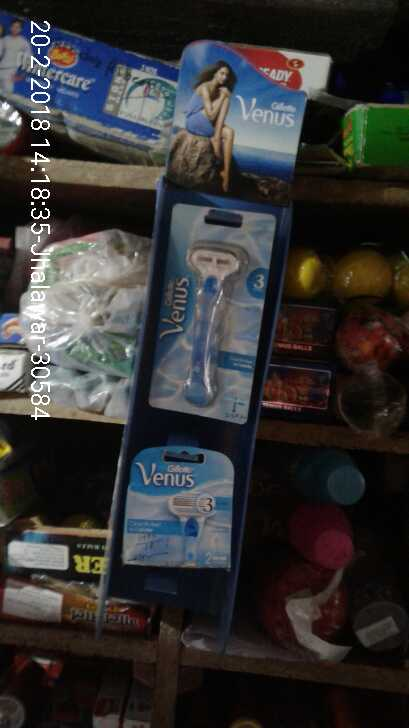venus: (168, 203, 256, 420), (124, 451, 240, 580)
